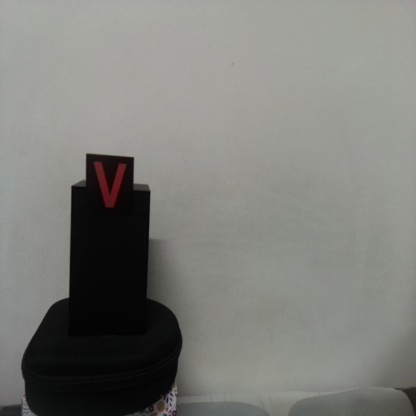id_11: (86, 156, 133, 218)
